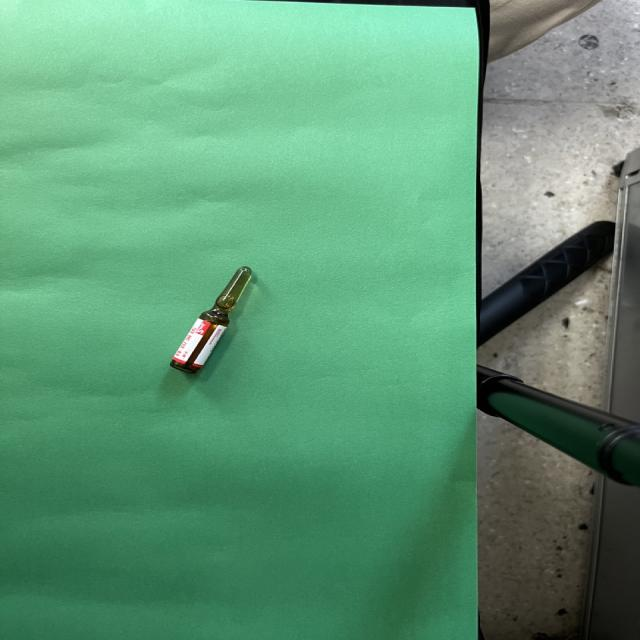Ampoules: (169, 266, 251, 374)
